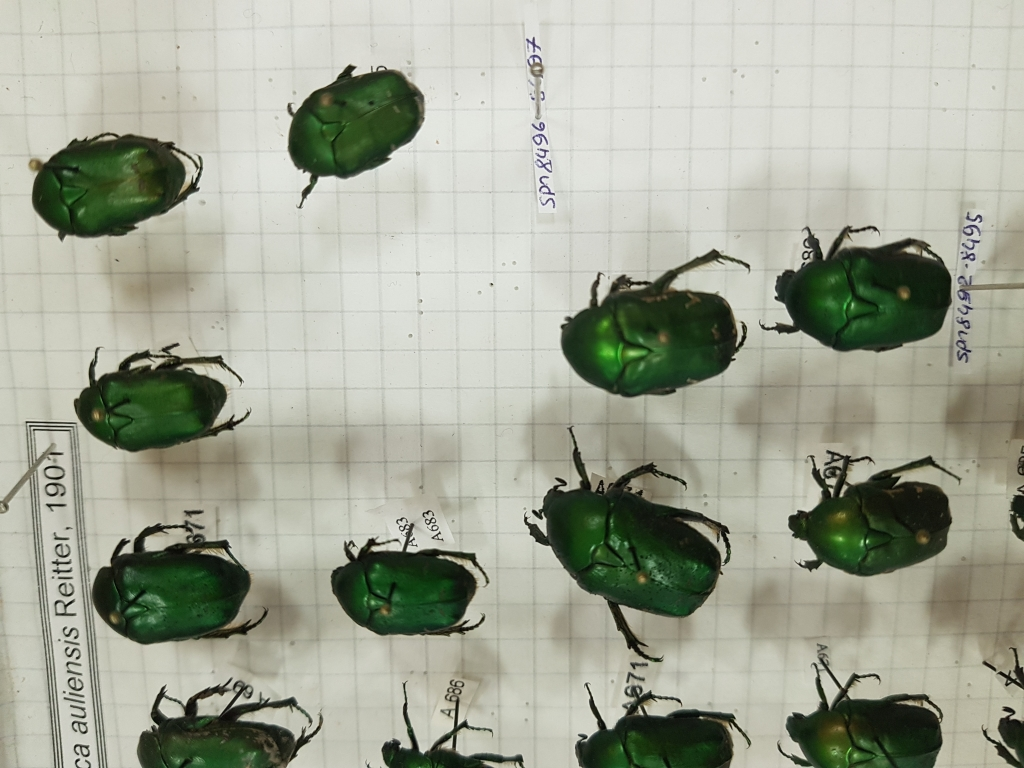Protaetia_ungarica_americana: (514, 435, 752, 673), (543, 222, 759, 418), (761, 203, 960, 391), (771, 441, 978, 604), (70, 335, 268, 466), (290, 48, 446, 207), (332, 513, 505, 652), (31, 119, 221, 245)
